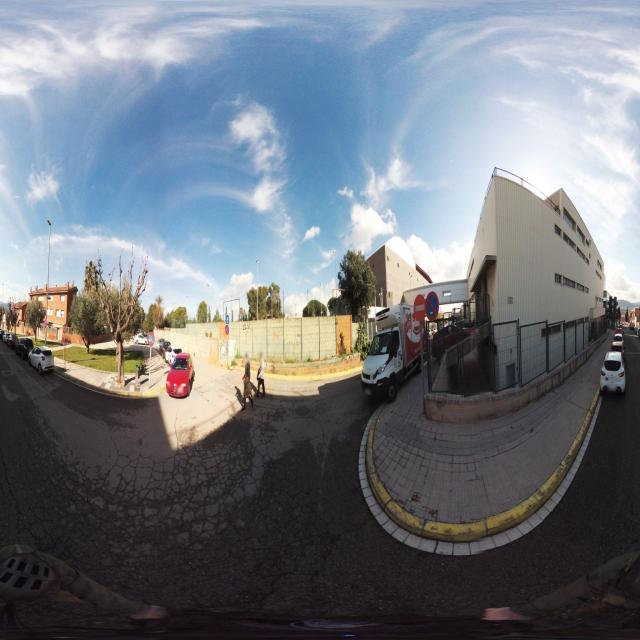forb_stopping: (426, 291, 439, 320)
forb_waiting: (225, 325, 229, 336)
